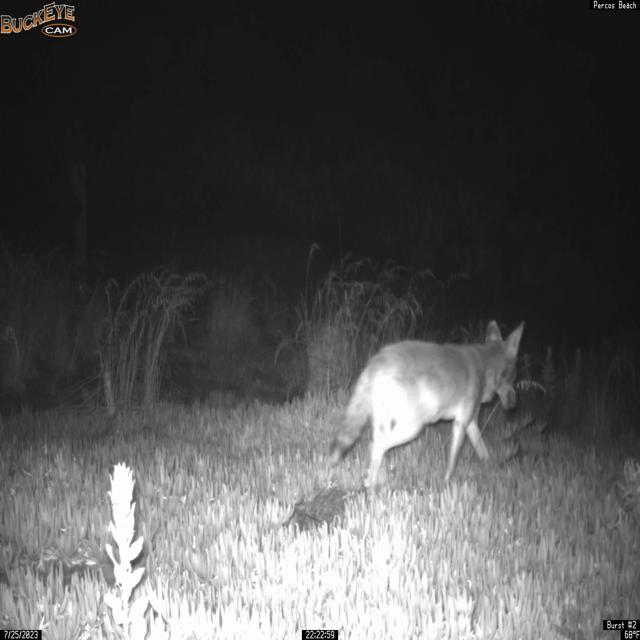coyote: (328, 319, 526, 493)
